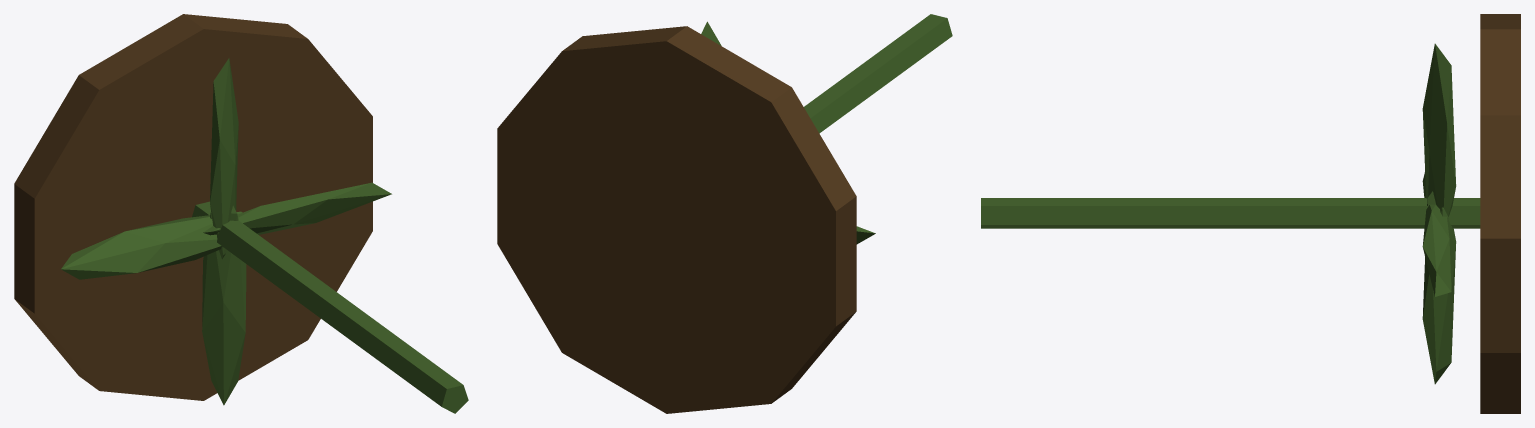
Rendered from 2_growing.obj.
3 renders of one model, left to right at view 1: azimuth 30°, elevation 25°; view 2: azimuth 150°, elevation 25°; view 3: azimuth 270°, elevation 25°, orthographic.
Visible parts, largest first — view 1: poppy_2_growing; view 2: poppy_2_growing; view 3: poppy_2_growing.
Part boxes in pixels (left/top/right/bottom): poppy_2_growing: left=14, top=14, right=468, bottom=413; poppy_2_growing: left=497, top=14, right=952, bottom=413; poppy_2_growing: left=981, top=14, right=1520, bottom=413.
Bounding box in the file's own units: 0.1902 × 0.2 × 0.265.
